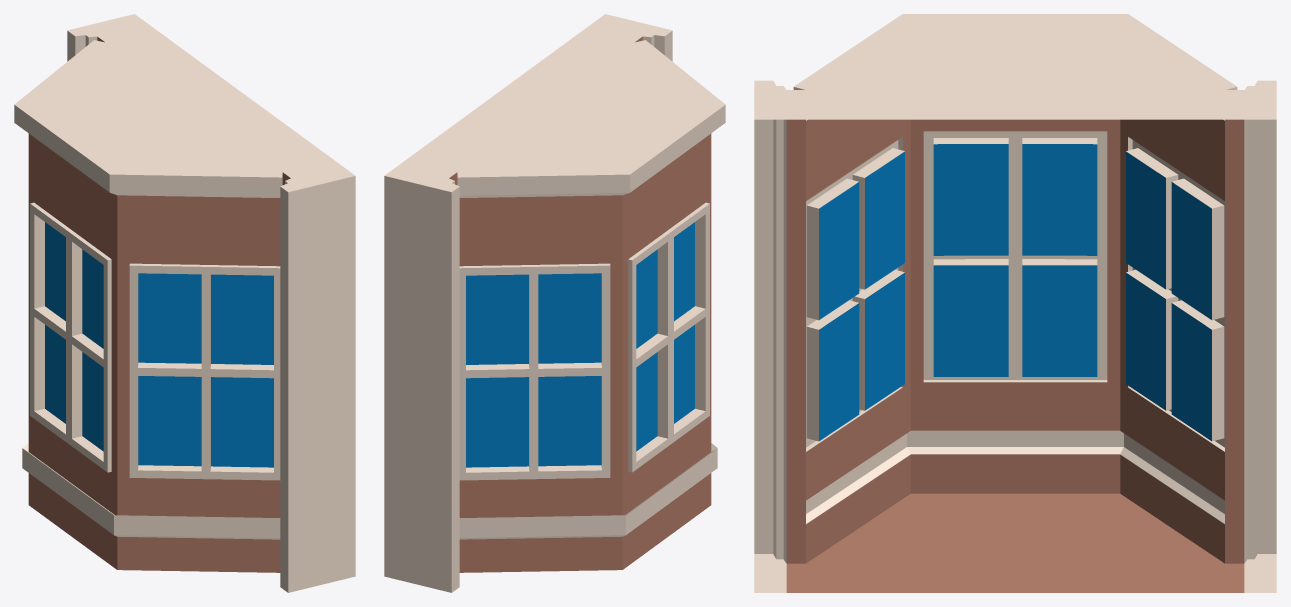
Rendered from O_V_F_Type6_Extrude.fbx.
3 views of the same model, side by side, from view 1: azimuth 30°, elevation 25°; view 2: azimuth 150°, elevation 25°; view 3: azimuth 270°, elevation 25° (orthographic). The views are drawn at different scales.
Visible parts, largest first — view 1: Box037; view 2: Box037; view 3: Box037.
Boxes of the visible parts, left/top/right/bottom form: Box037: left=14, top=14, right=355, bottom=592; Box037: left=384, top=14, right=725, bottom=592; Box037: left=754, top=14, right=1276, bottom=592.
Size of the model in its own units: 1.43 by 3 by 3.
